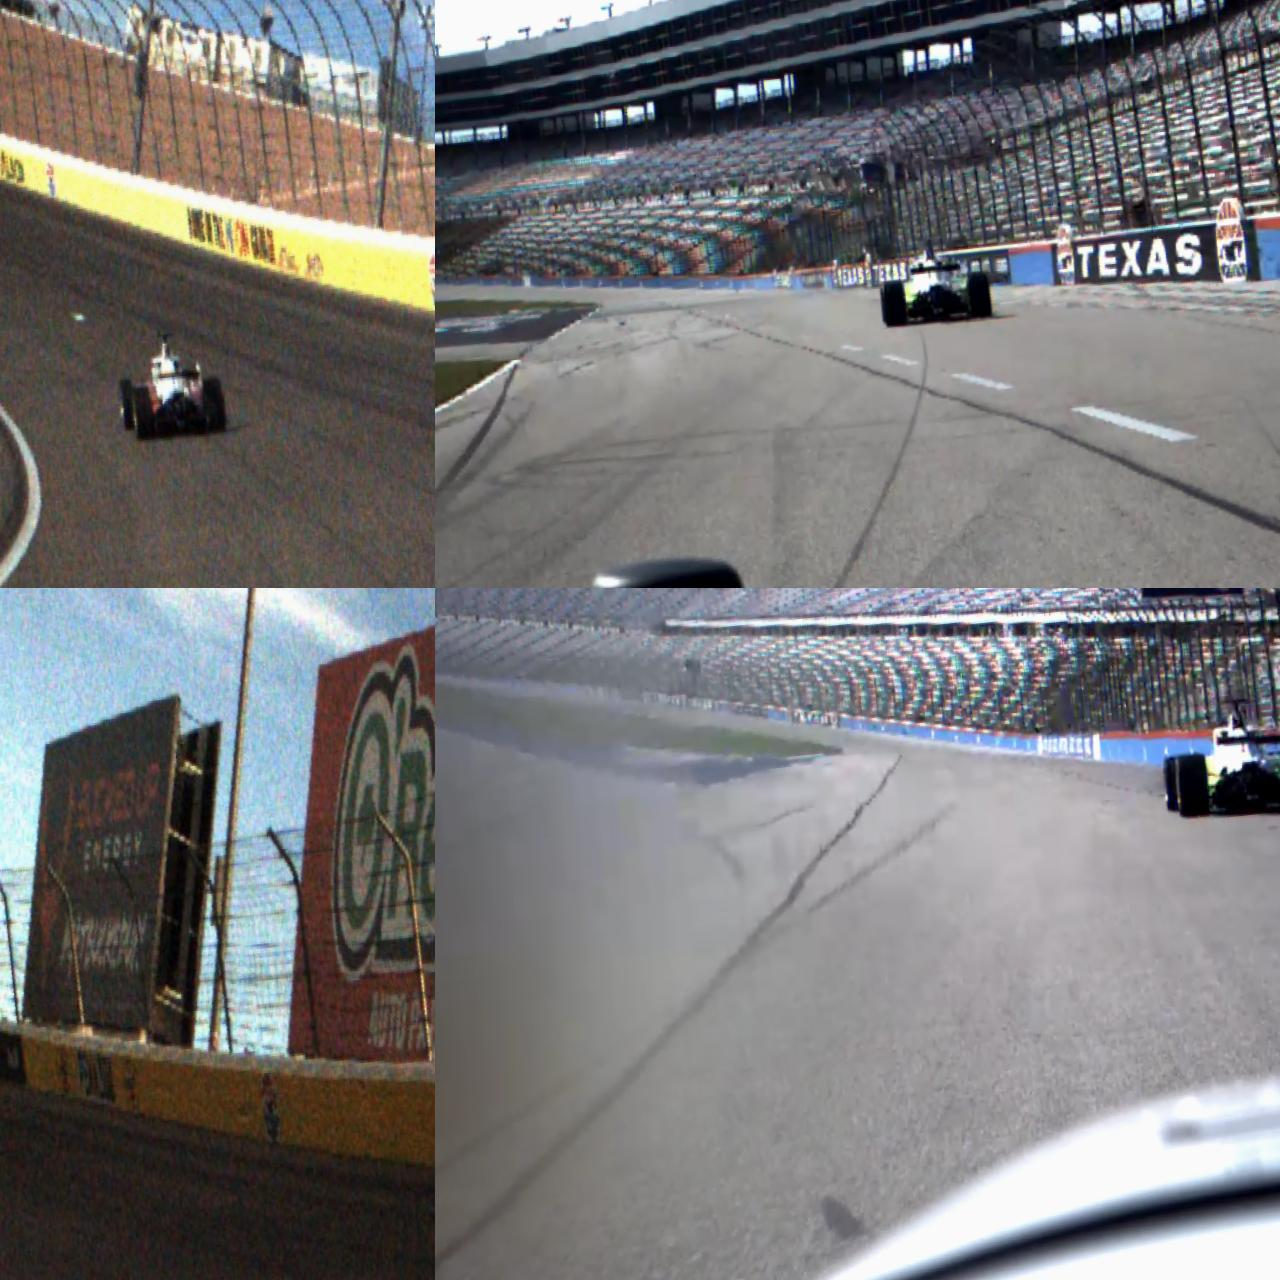AV: (1155, 690, 1280, 828), (111, 328, 230, 445), (874, 234, 994, 328)
Wheel: (1175, 753, 1212, 821), (1162, 754, 1192, 813), (204, 375, 229, 435), (130, 386, 156, 442), (881, 279, 908, 328), (967, 271, 993, 320), (118, 377, 137, 431)
